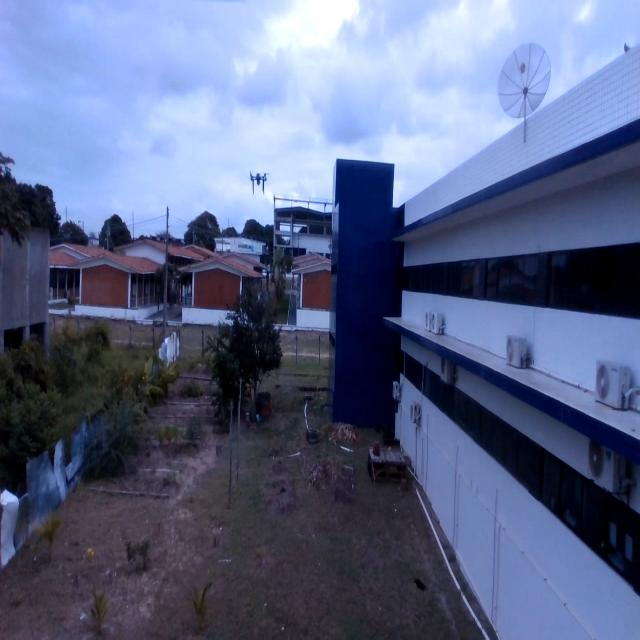-uav-: (247, 170, 270, 196)
